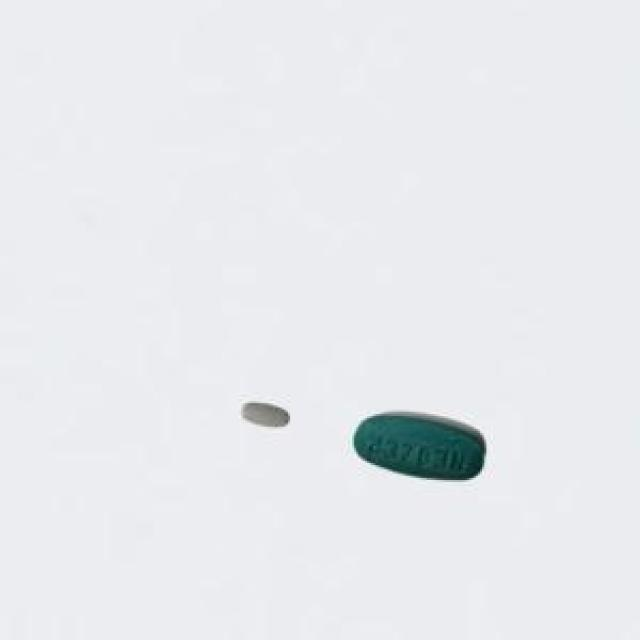Neozep: (350, 396, 490, 500), (232, 392, 298, 445)
